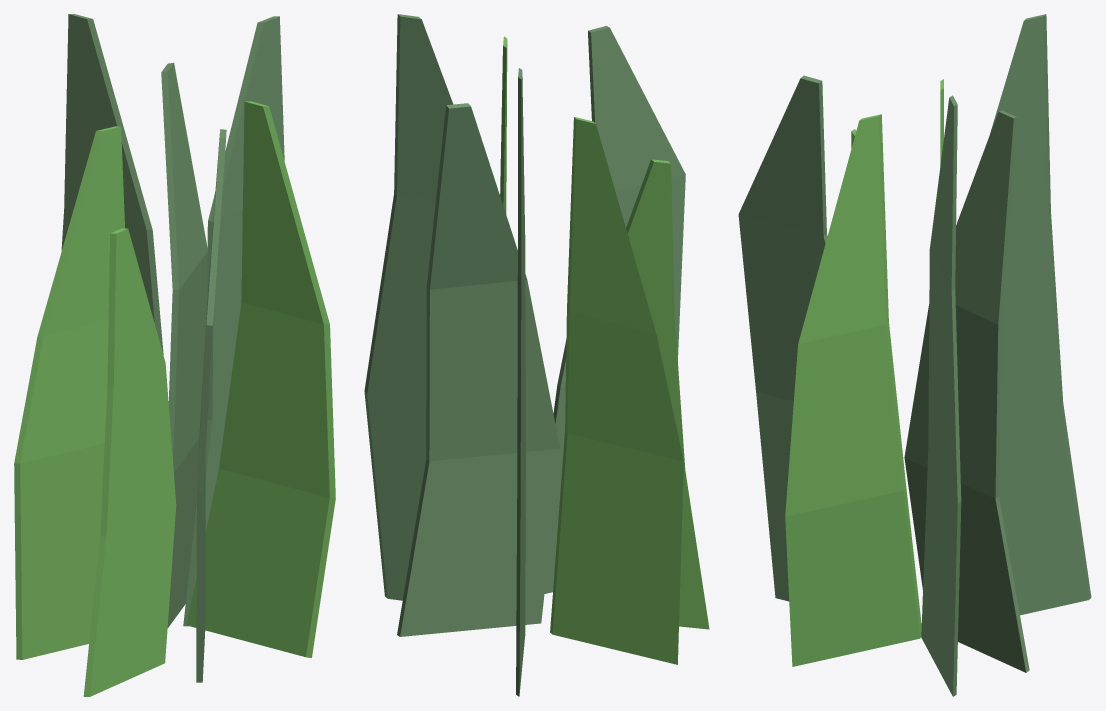
Rendered from Plantes.fbx.
3 views of the same model, side by side, from view 1: azimuth 30°, elevation 25°; view 2: azimuth 150°, elevation 25°; view 3: azimuth 270°, elevation 25° (orthographic). The views are drawn at different scales.
Visible parts, largest first — view 1: Plane.002; view 2: Plane.002; view 3: Plane.002.
Boxes of the visible parts, left/top/right/bottom form: Plane.002: left=14, top=14, right=335, bottom=696; Plane.002: left=364, top=14, right=709, bottom=696; Plane.002: left=738, top=14, right=1091, bottom=696.
Bounding box in the file's own units: 108 × 201 × 107.
